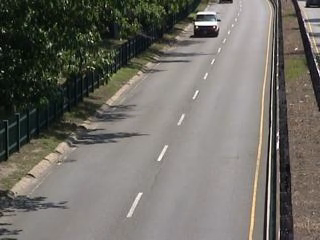truck: (191, 10, 223, 38)
